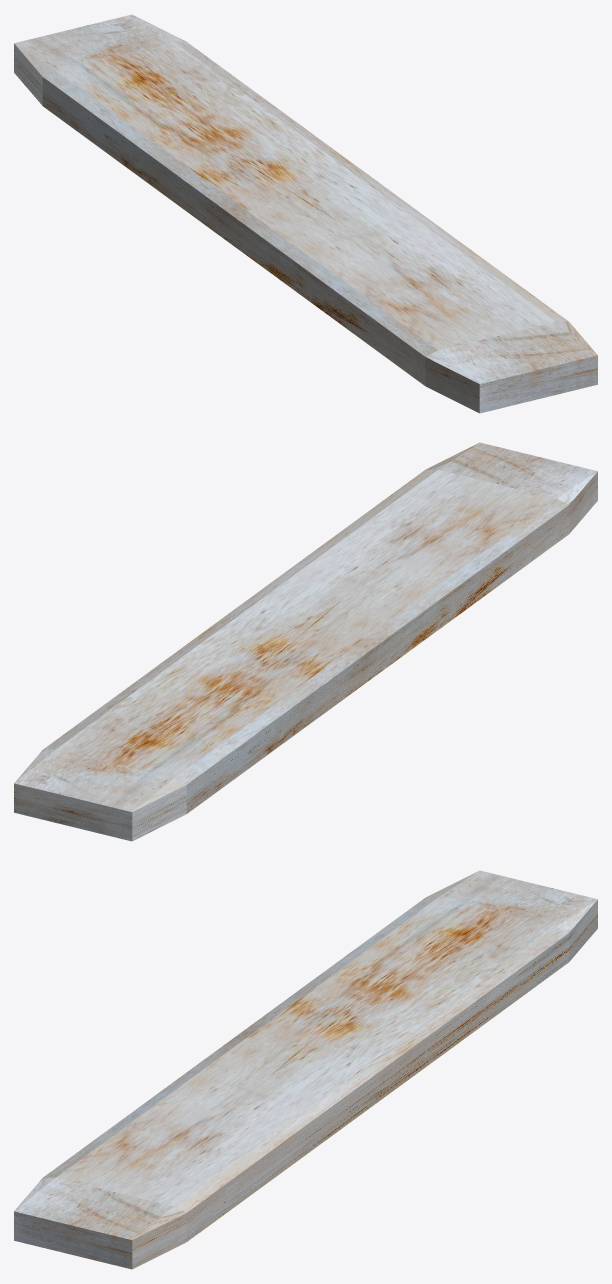
File: buulb.glb
The picture shows the model from 3 angles, top to bottom: view 1: azimuth 30°, elevation 25°; view 2: azimuth 150°, elevation 25°; view 3: azimuth 330°, elevation 25°; orthographic projection.
Parts seen in each view (by area): view 1: Cube; view 2: Cube; view 3: Cube.
Part boxes in pixels (<box>): Cube: <box>14,14,597,413</box>; Cube: <box>14,442,597,841</box>; Cube: <box>14,870,597,1269</box>.
Bounding box in the file's own units: 0.6696 × 0.2757 × 3.75.
2 materials, 1 textured.
